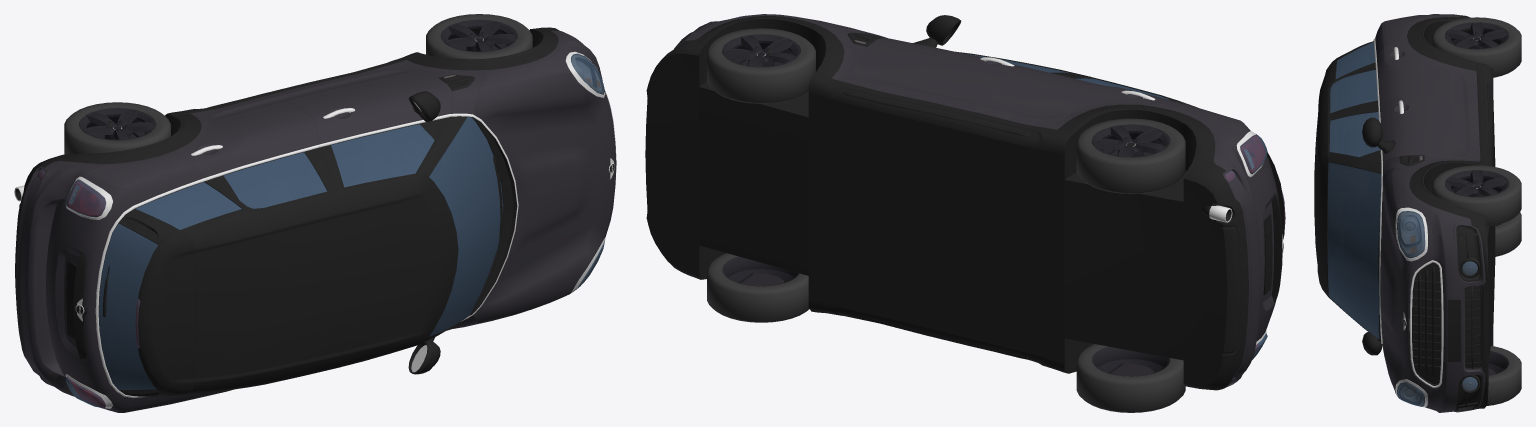
The model's file is mini.glb.
3 views of the same model, side by side, from view 1: azimuth 30°, elevation 25°; view 2: azimuth 150°, elevation 25°; view 3: azimuth 270°, elevation 25° (orthographic). The views are drawn at different scales.
Visible parts, largest first — view 1: countryman-17_exterior, countryman-17_BL_wheel, countryman-17_FL_wheel, countryman-17_backlights, countryman-17_frontlights; view 2: countryman-17_exterior, countryman-17_BL_wheel, countryman-17_FL_wheel, countryman-17_BR_wheel, countryman-17_FR_wheel, countryman-17_backlights; view 3: countryman-17_exterior, countryman-17_FL_wheel, countryman-17_BL_wheel, countryman-17_frontlights, countryman-17_FR_wheel, countryman-17_BR_wheel.
Part boxes in pixels (x1,y1,x2,y2): countryman-17_exterior: (14, 27, 616, 412); countryman-17_BL_wheel: (64, 102, 170, 154); countryman-17_FL_wheel: (426, 14, 532, 59); countryman-17_backlights: (37, 169, 105, 408); countryman-17_frontlights: (571, 53, 604, 289); countryman-17_exterior: (645, 14, 1285, 390); countryman-17_BL_wheel: (1076, 118, 1185, 193); countryman-17_FL_wheel: (707, 28, 815, 103); countryman-17_BR_wheel: (1076, 344, 1185, 412); countryman-17_FR_wheel: (707, 253, 809, 322); countryman-17_backlights: (1225, 134, 1267, 383); countryman-17_exterior: (1314, 14, 1495, 412); countryman-17_FL_wheel: (1432, 165, 1521, 226); countryman-17_BL_wheel: (1432, 17, 1521, 77); countryman-17_frontlights: (1397, 211, 1477, 406); countryman-17_FR_wheel: (1487, 346, 1521, 405); countryman-17_BR_wheel: (1495, 212, 1521, 256).
Size of the model in its own units: 4.31 by 1.98 by 1.59.
